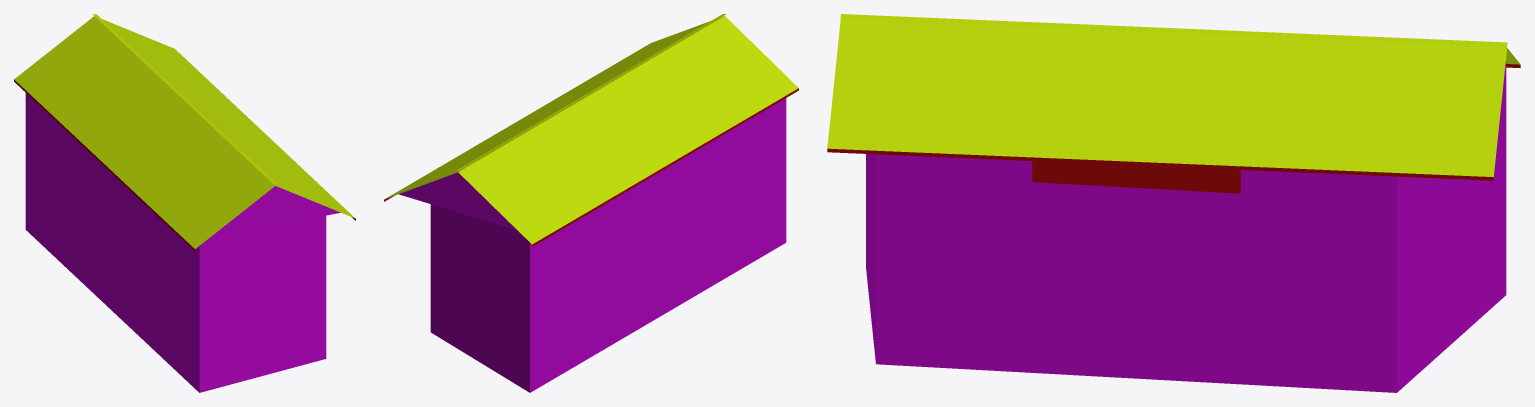
The model's file is bgj_256.glb.
3 views of the same model, side by side, from view 1: azimuth 30°, elevation 25°; view 2: azimuth 150°, elevation 25°; view 3: azimuth 270°, elevation 25° (orthographic). The views are drawn at different scales.
Visible parts, largest first — view 1: bgj_256; view 2: bgj_256; view 3: bgj_256.
Part boxes in pixels (box(x1,y1,x2,y2)): bgj_256: box(14, 14, 355, 392); bgj_256: box(384, 14, 798, 392); bgj_256: box(827, 14, 1520, 392).
Size of the model in its own units: 10.09 by 10.09 by 20.98.
